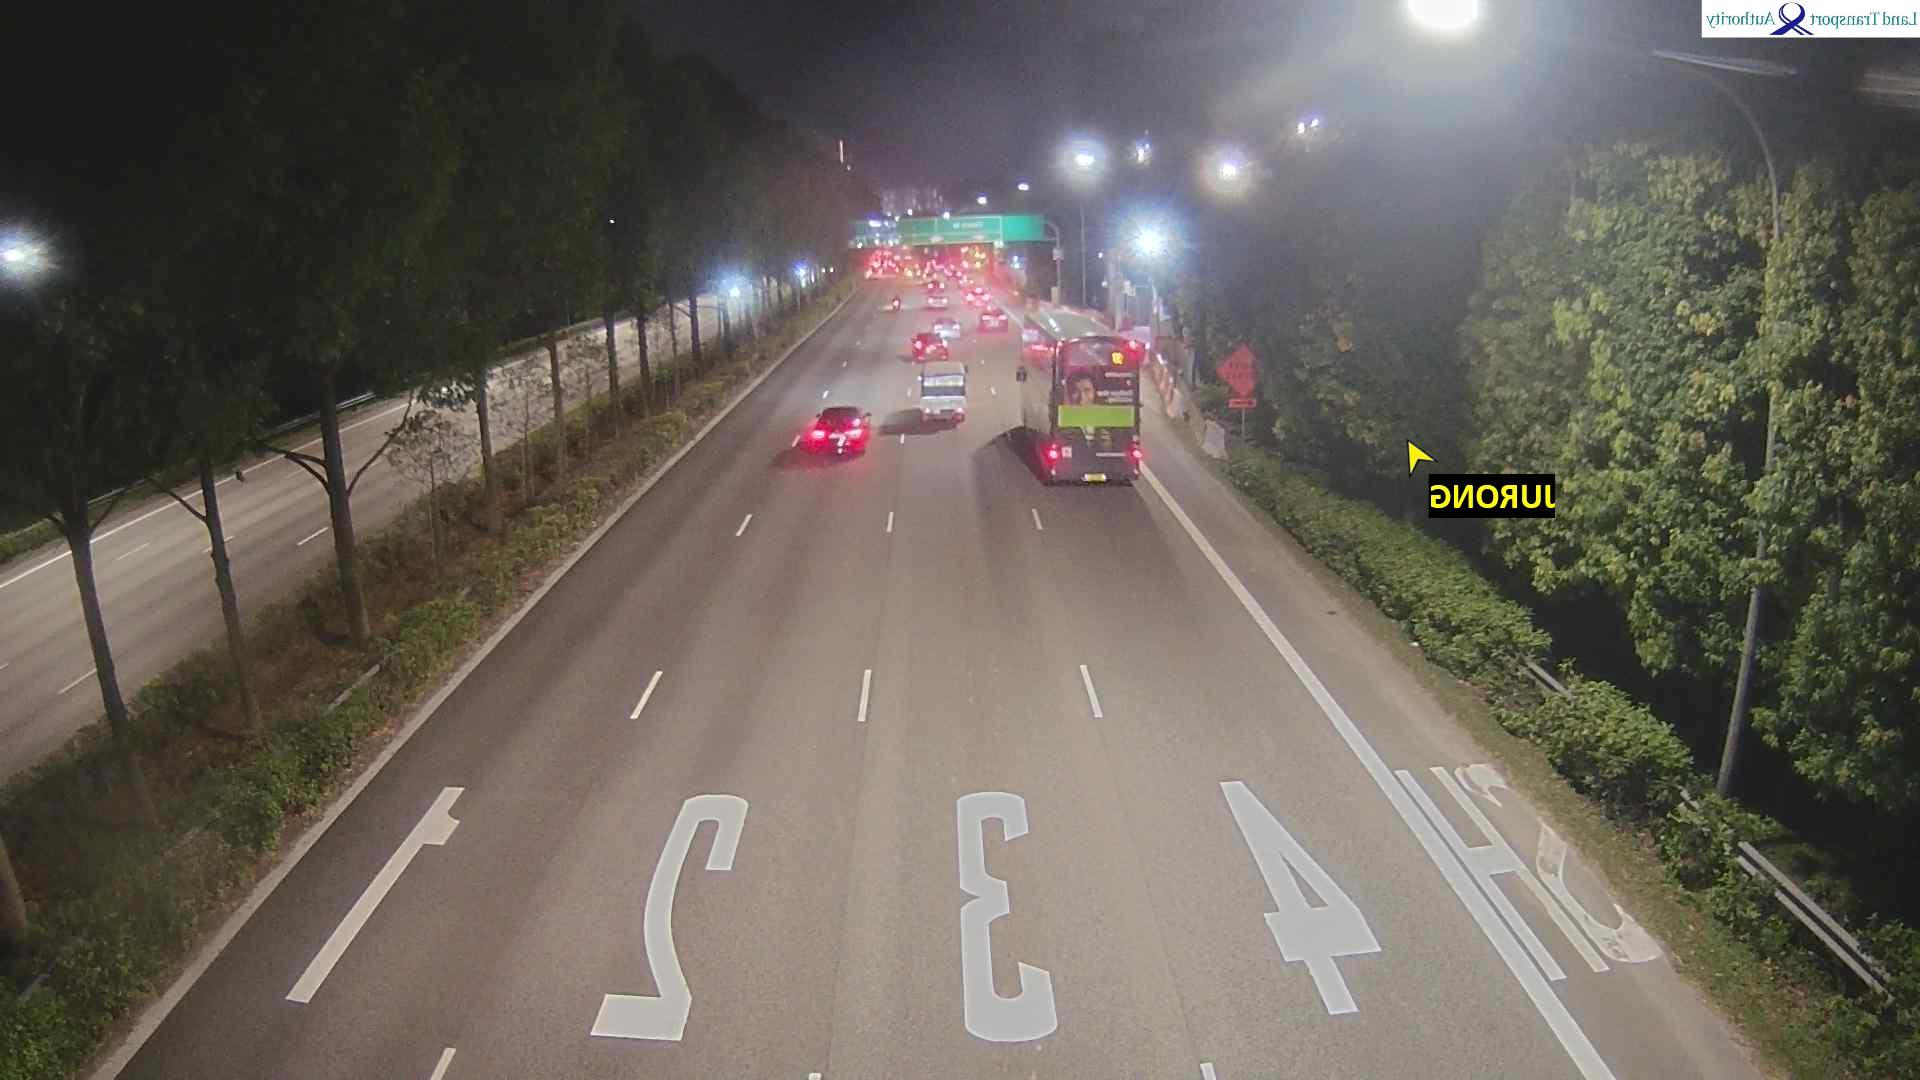bus: (1011, 307, 1151, 496)
cars: (800, 405, 873, 458), (911, 331, 949, 361), (978, 306, 1010, 332), (934, 316, 963, 339), (964, 284, 992, 306), (927, 291, 949, 309), (924, 278, 947, 293), (955, 274, 973, 291), (903, 265, 923, 281), (864, 265, 882, 281), (945, 266, 960, 284), (890, 260, 906, 273), (922, 270, 935, 285), (870, 256, 884, 270), (935, 260, 948, 274), (924, 257, 936, 269)
motorcycle: (884, 293, 902, 313)
trucks: (919, 359, 969, 429)
